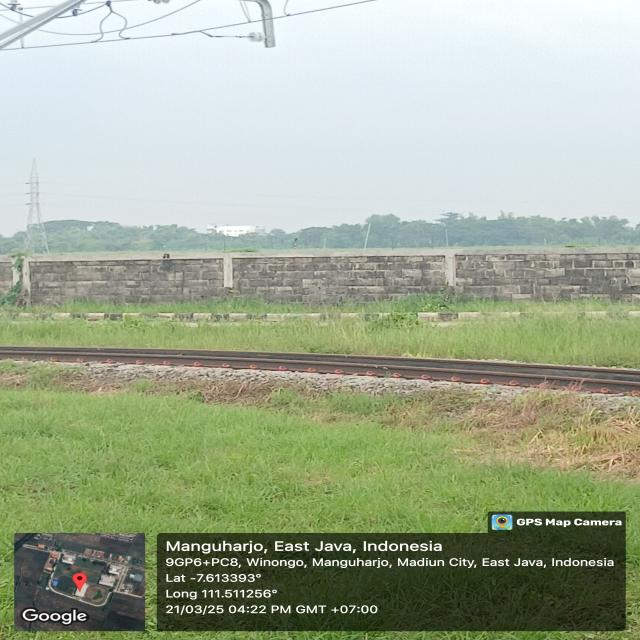rail-detection: (0, 346, 640, 394)
